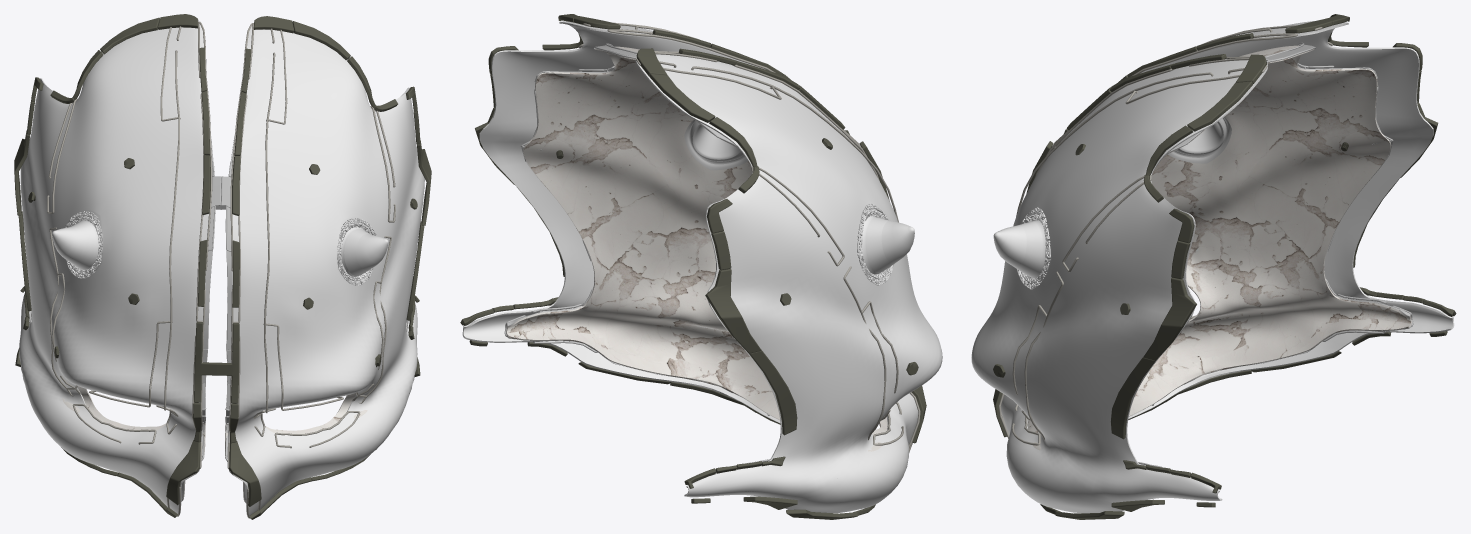
Rendered from Maske_Texturebased_Patch.fbx.
3 renders of one model, left to right at view 1: azimuth 30°, elevation 25°; view 2: azimuth 150°, elevation 25°; view 3: azimuth 270°, elevation 25°, orthographic. The views are drawn at different scales.
Visible parts, largest first — view 1: Frontmaske.002, Maske_Rand.002, Masken_Streben.002, Maske_Rand_Hinten.002, Maske_Details.002, Mask_Hinten.002, Schrauben.002, Maske_Streben_Hinten.002; view 2: Frontmaske.002, Mask_Hinten.002, Maske_Rand.002, Masken_Streben.002, Maske_Streben_Hinten.002, Maske_Details.002, Maske_Rand_Hinten.002; view 3: Frontmaske.002, Mask_Hinten.002, Maske_Rand.002, Masken_Streben.002, Maske_Streben_Hinten.002, Maske_Rand_Hinten.002, Maske_Details.002.
Boxes of the visible parts, bbox=[...] form: Frontmaske.002: bbox=[19, 24, 424, 515]; Maske_Rand.002: bbox=[14, 14, 431, 519]; Masken_Streben.002: bbox=[47, 21, 395, 518]; Maske_Rand_Hinten.002: bbox=[181, 135, 406, 503]; Maske_Details.002: bbox=[65, 211, 376, 285]; Mask_Hinten.002: bbox=[31, 158, 407, 501]; Schrauben.002: bbox=[28, 158, 417, 367]; Maske_Streben_Hinten.002: bbox=[31, 160, 407, 500]; Frontmaske.002: bbox=[462, 21, 942, 512]; Mask_Hinten.002: bbox=[506, 46, 887, 451]; Maske_Rand.002: bbox=[460, 14, 926, 519]; Masken_Streben.002: bbox=[578, 22, 920, 452]; Maske_Streben_Hinten.002: bbox=[504, 43, 770, 463]; Maske_Details.002: bbox=[857, 203, 894, 285]; Maske_Rand_Hinten.002: bbox=[506, 45, 837, 478]; Frontmaske.002: bbox=[971, 21, 1454, 513]; Mask_Hinten.002: bbox=[1027, 45, 1411, 450]; Maske_Rand.002: bbox=[993, 14, 1456, 519]; Masken_Streben.002: bbox=[998, 25, 1332, 445]; Maske_Streben_Hinten.002: bbox=[1138, 42, 1413, 467]; Maske_Rand_Hinten.002: bbox=[1129, 44, 1411, 465]; Maske_Details.002: bbox=[1016, 207, 1050, 289].
Size of the model in its own units: 244 by 250 by 232.
8 materials, 3 textured.
